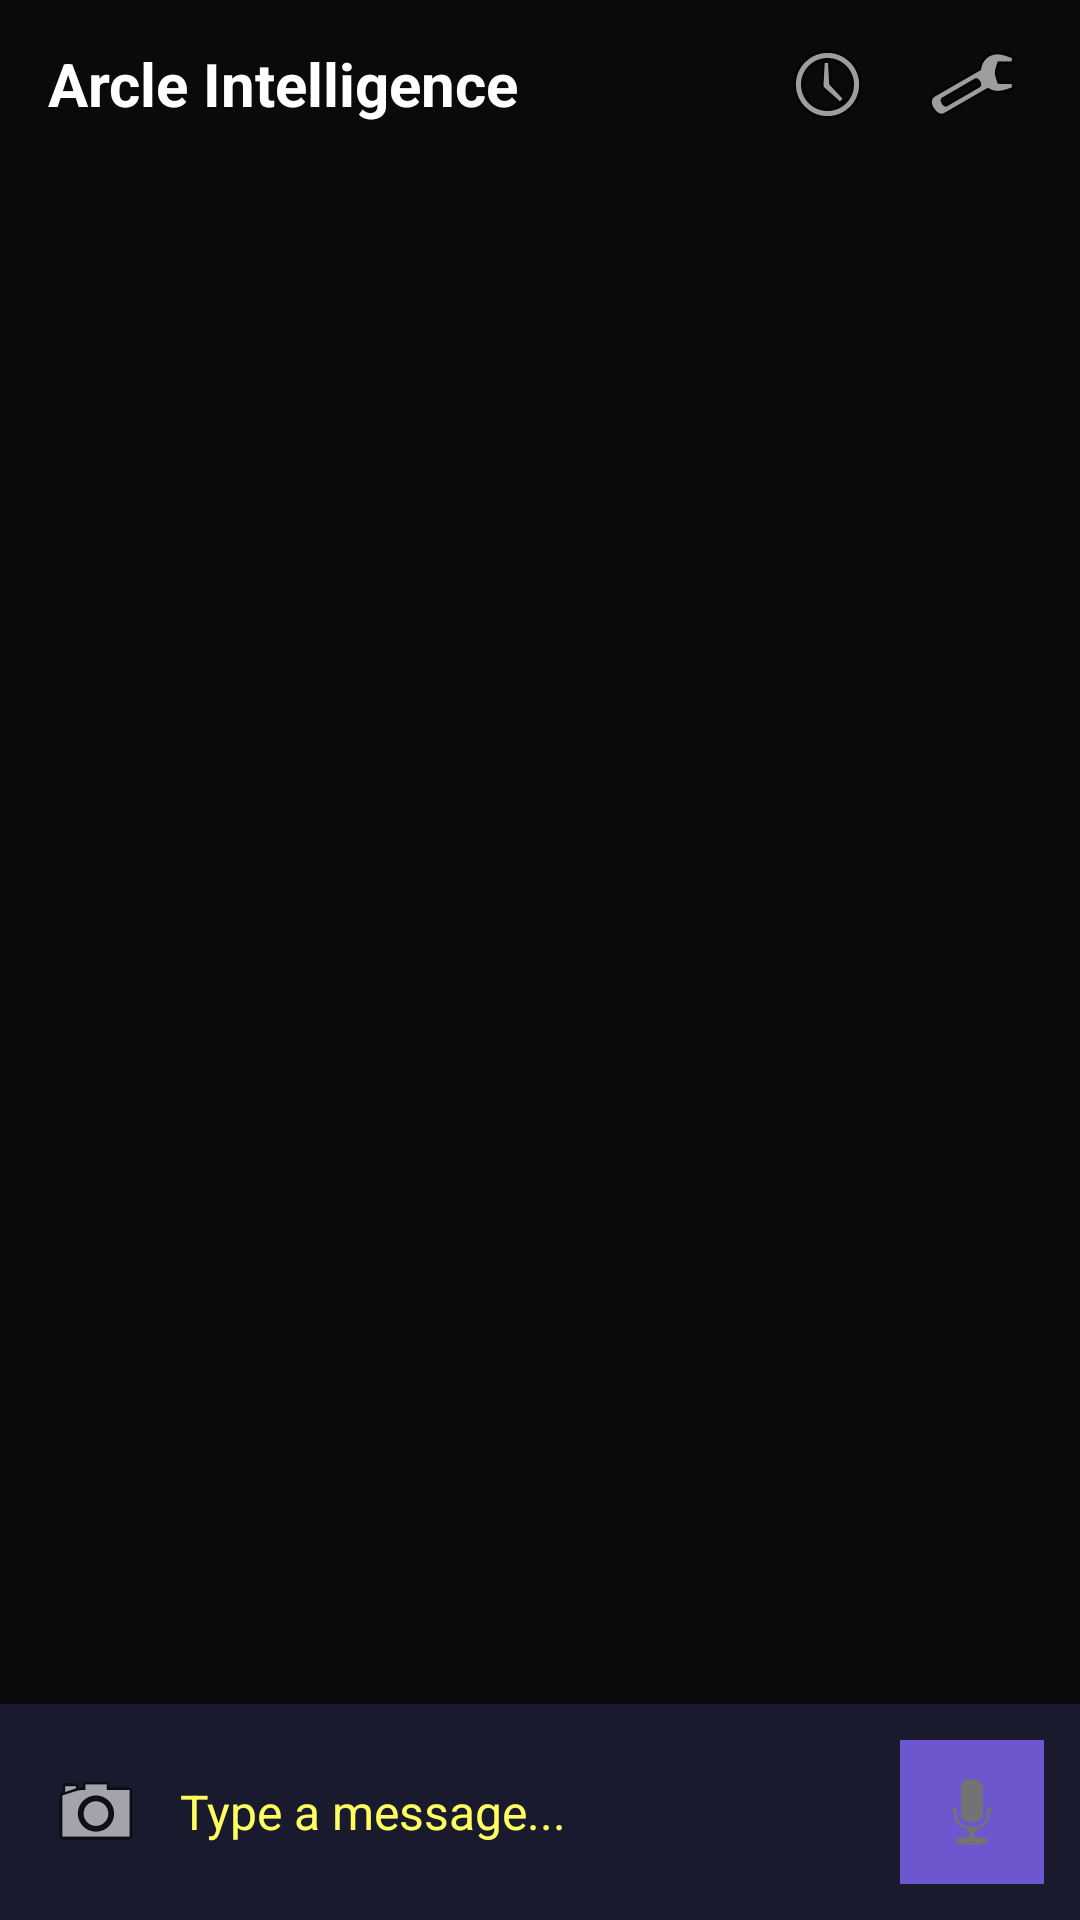

Point at icon controls on the screen. Image size 1080*1920, points as (x,y).
Camera: (96,1810)
Chat History: (827,84)
Settings: (972,84)
Voice Input: (972,1812)
